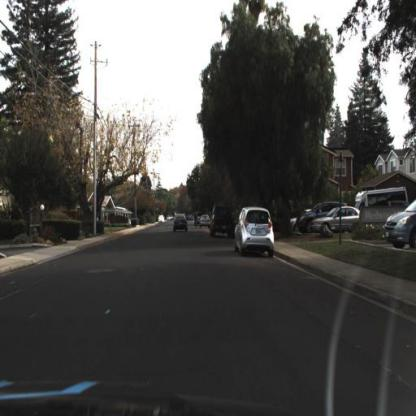car: (234, 207, 277, 259), (307, 204, 361, 239), (296, 201, 332, 237), (206, 205, 239, 244), (172, 212, 190, 235), (199, 211, 213, 231)
